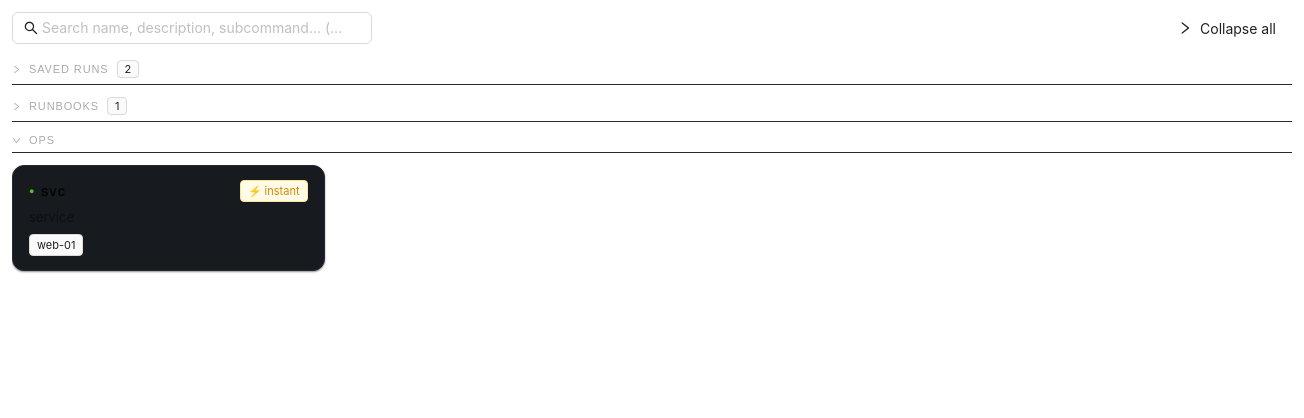
Scenario: Forms → collapsible sections › a header click toggles just that section
Click the button "Runbooks 1" at (64, 106), box [12,97,1292,122]
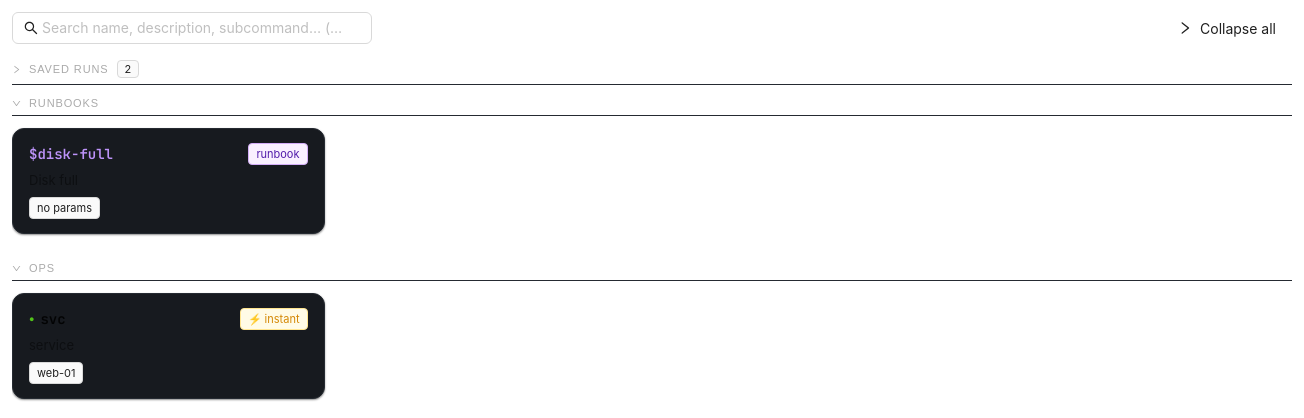
Expected: the button "Runbooks" is expanded, [12,97,1292,116]
